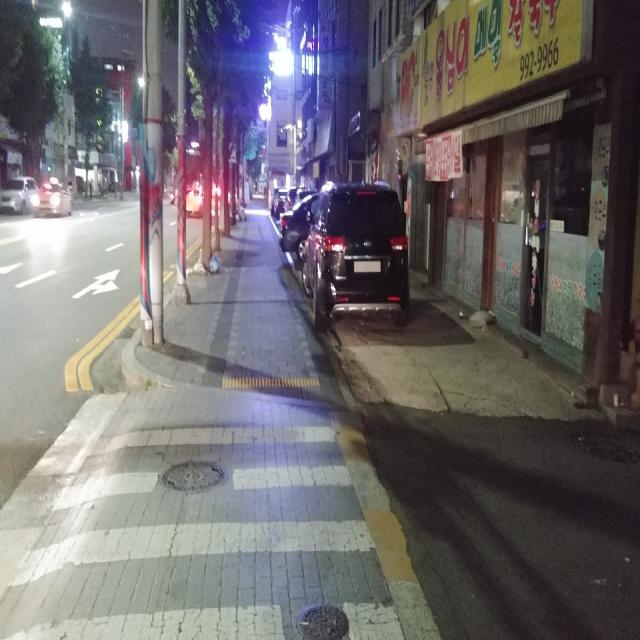횡단보도: (0, 425, 406, 639)
